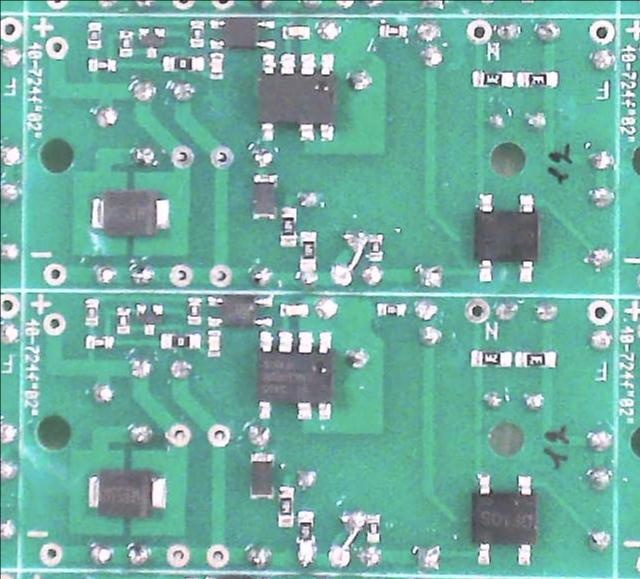chip-capacitor: (280, 23, 312, 41), (278, 300, 310, 318), (204, 328, 222, 359), (207, 51, 225, 81)
chip-resistor: (467, 346, 513, 369), (469, 68, 515, 89), (514, 350, 558, 371), (276, 483, 296, 526), (159, 331, 202, 351), (161, 54, 206, 73), (517, 69, 559, 88), (279, 206, 298, 248), (299, 229, 317, 271), (296, 510, 315, 546), (375, 300, 409, 318), (188, 18, 206, 49), (84, 332, 115, 350), (86, 56, 118, 73), (377, 23, 411, 39), (115, 304, 132, 336), (185, 295, 203, 325), (366, 512, 382, 544), (117, 28, 133, 59), (84, 297, 100, 328), (367, 233, 384, 262), (86, 22, 102, 50)
diode: (89, 187, 174, 237), (87, 467, 169, 517), (248, 449, 277, 501), (250, 171, 279, 222)
ic: (254, 328, 337, 422), (257, 51, 338, 143), (469, 470, 539, 567), (472, 190, 540, 283), (208, 16, 277, 50), (205, 294, 274, 328)
transistor: (133, 300, 164, 336), (136, 25, 166, 57)
